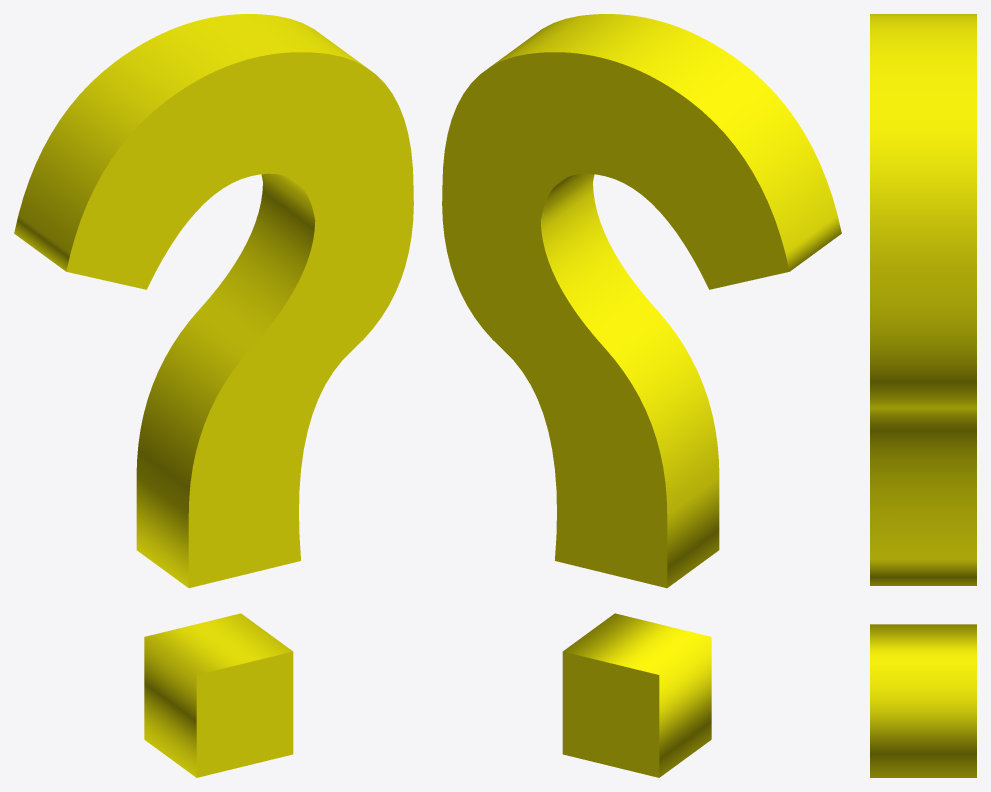
Rendered from question_mark.glb.
3 renders of one model, left to right at view 1: azimuth 30°, elevation 25°; view 2: azimuth 150°, elevation 25°; view 3: azimuth 270°, elevation 25°, orthographic. The views are drawn at different scales.
Parts seen in each view (by area): view 1: Question_Mark; view 2: Question_Mark; view 3: Question_Mark.
Part boxes in pixels (bbox=[...]): Question_Mark: bbox=[14, 14, 413, 777]; Question_Mark: bbox=[442, 14, 841, 777]; Question_Mark: bbox=[870, 14, 976, 777].
Bounding box in the file's own units: 0.3571 × 0.6933 × 0.0929.
